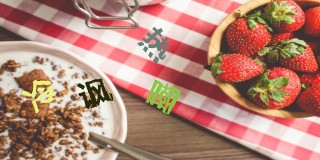冷: (20, 79, 55, 114)
嘲: (145, 79, 181, 114)
热: (138, 24, 170, 64)
讽: (75, 78, 114, 110)
